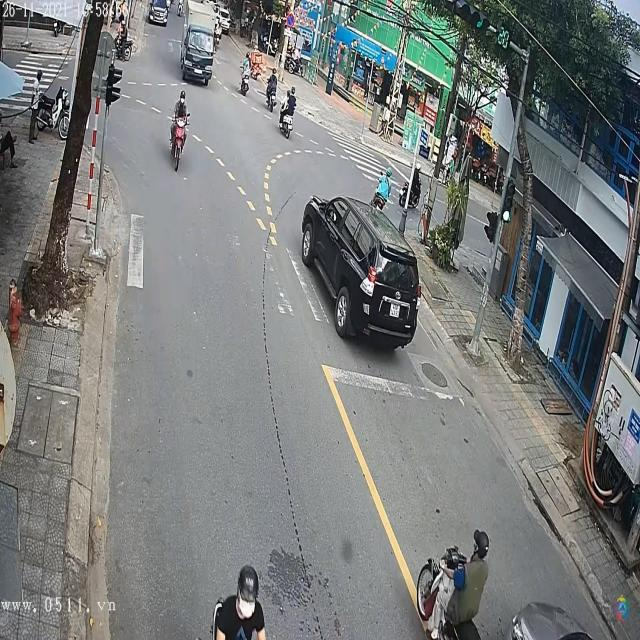bus: (300, 197, 422, 351)
car: (149, 1, 169, 26)
motorcycle: (168, 117, 188, 172), (281, 109, 296, 140), (265, 82, 279, 114), (242, 62, 252, 96)
truck: (178, 6, 218, 87)
